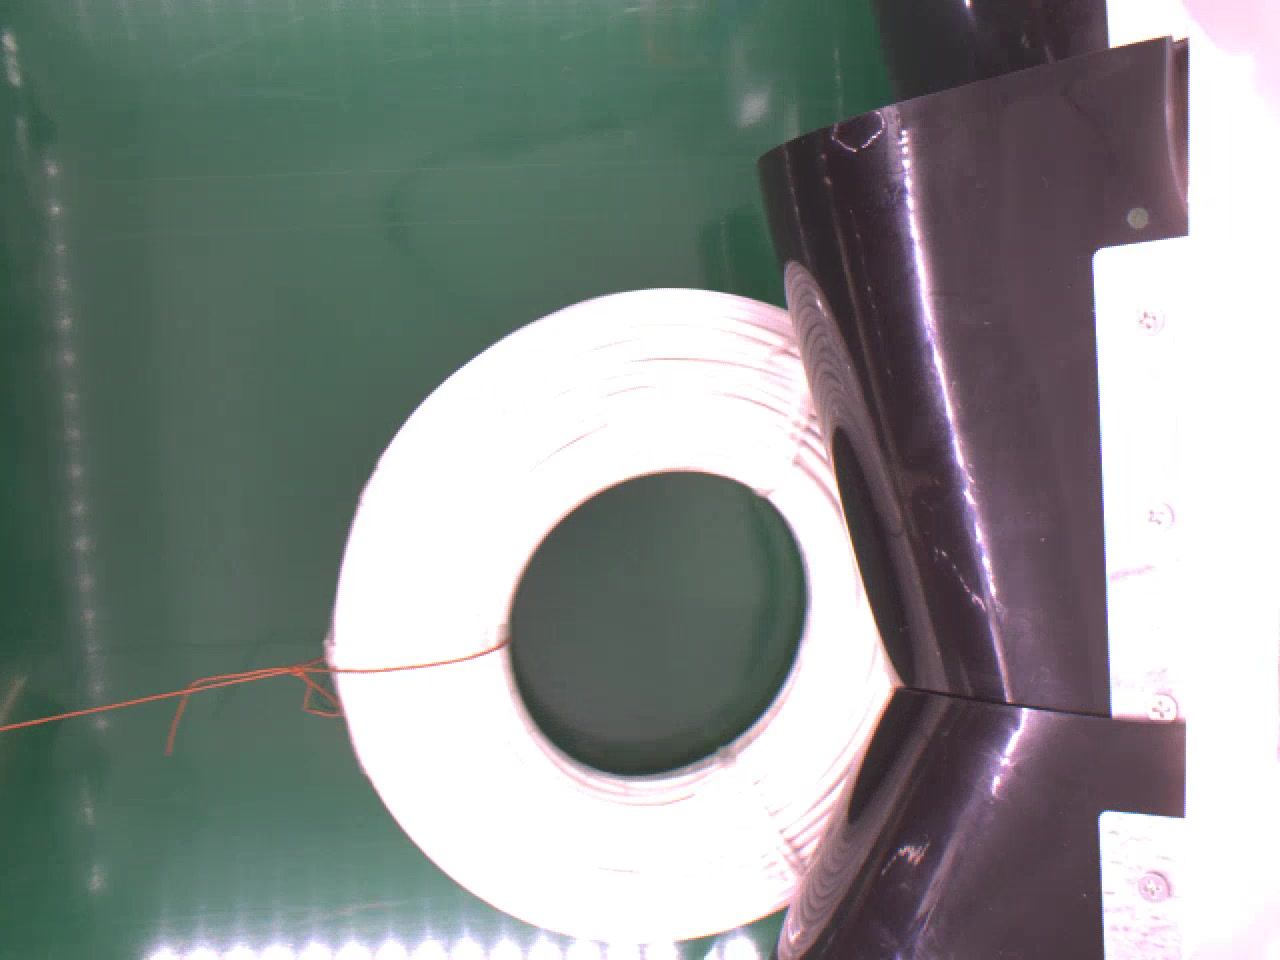white: (321, 288, 895, 948)
